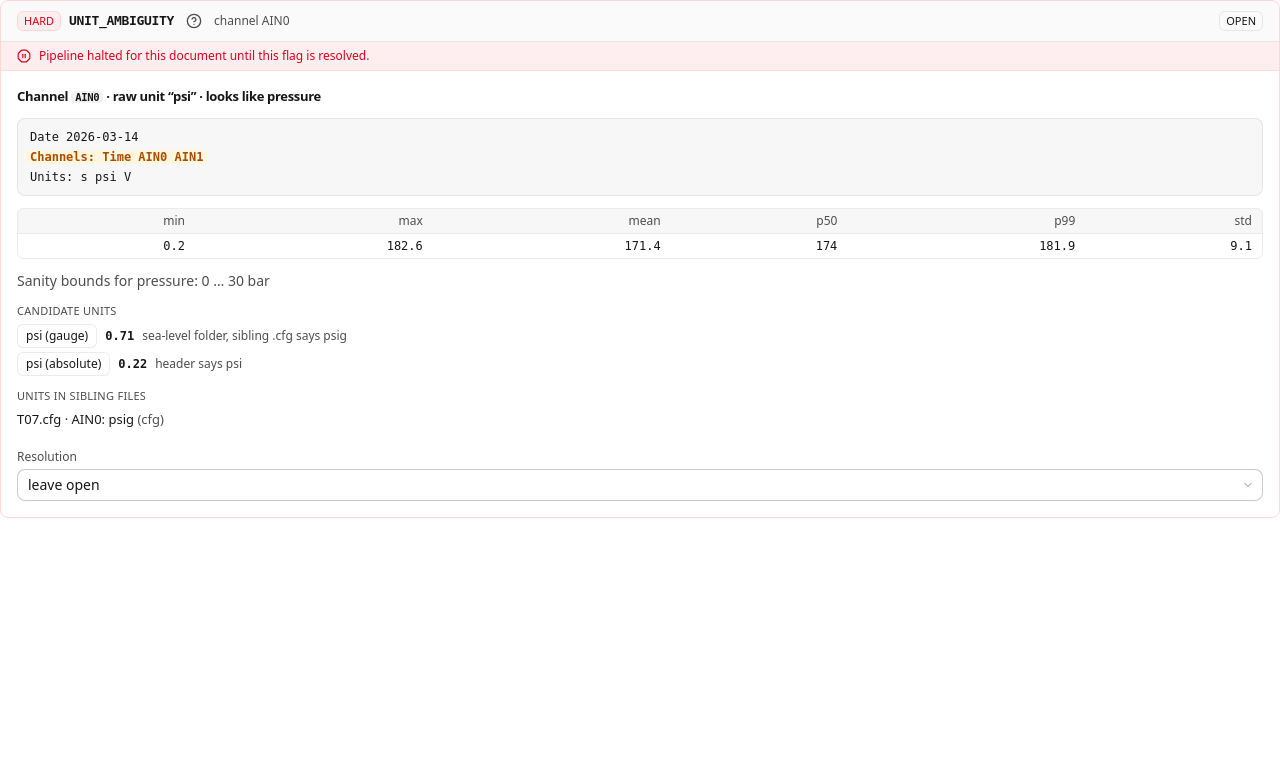
Test: FlagConsole › picks a candidate unit into the draft
Click the button "psi (absolute)". click: (64, 364)
box: [17,352,110,376]
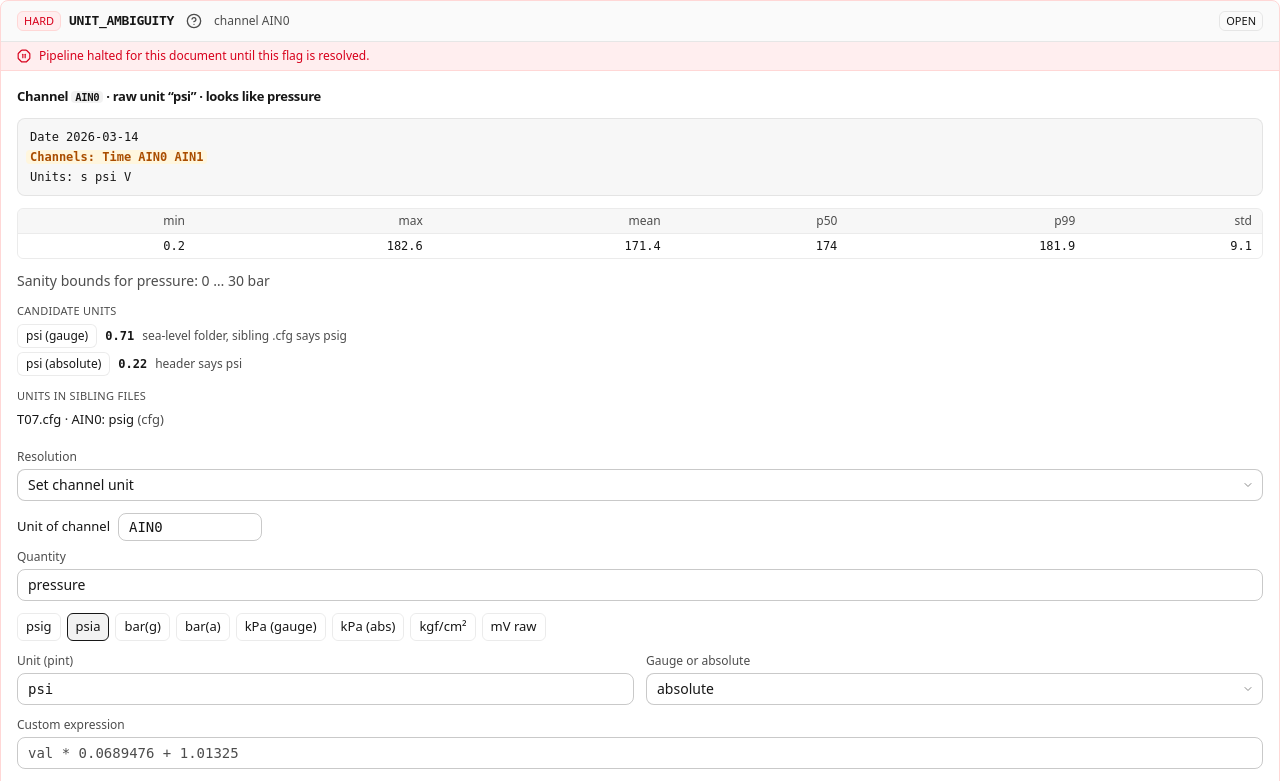
Result: the radio button labelled "psia" is checked at [67,612,110,640]
